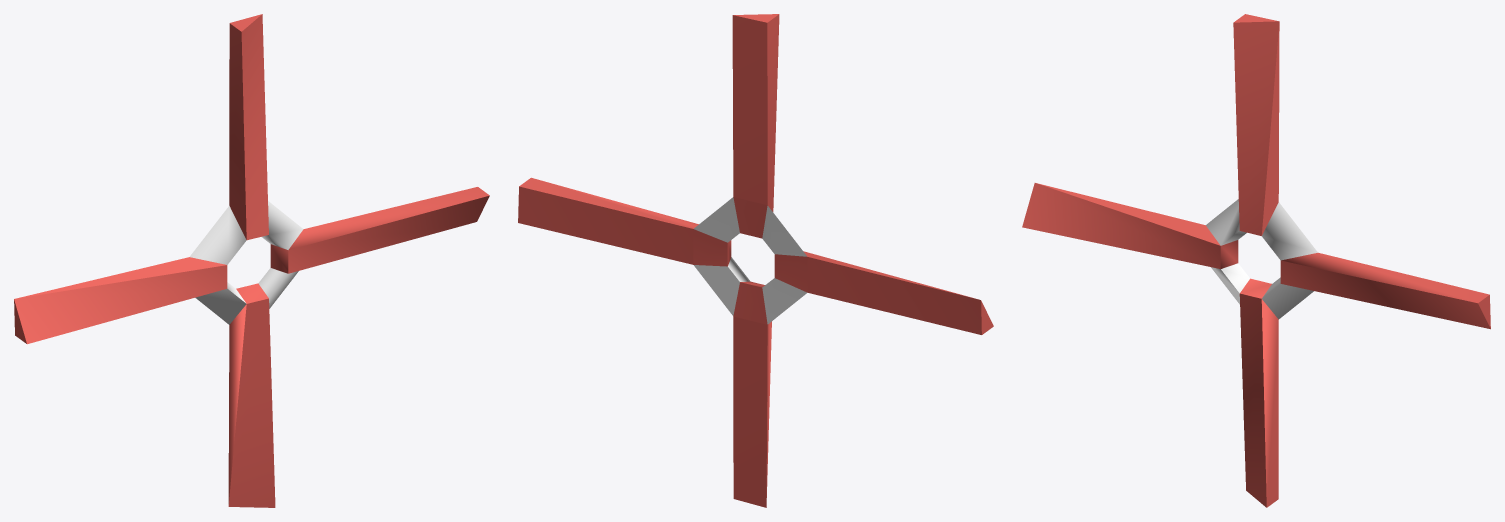
File: Object_Airscrew.FBX
3 views of the same model, side by side, from view 1: azimuth 30°, elevation 25°; view 2: azimuth 150°, elevation 25°; view 3: azimuth 330°, elevation 25° (orthographic).
Visible parts, largest first — view 1: Object_Airscrew; view 2: Object_Airscrew; view 3: Object_Airscrew.
Part boxes in pixels (box(x1,y1,x2,y2)): Object_Airscrew: box(14, 14, 489, 507); Object_Airscrew: box(518, 14, 993, 507); Object_Airscrew: box(1022, 14, 1490, 507).
Bounding box in the file's own units: 35.17 × 35.17 × 1.71.
